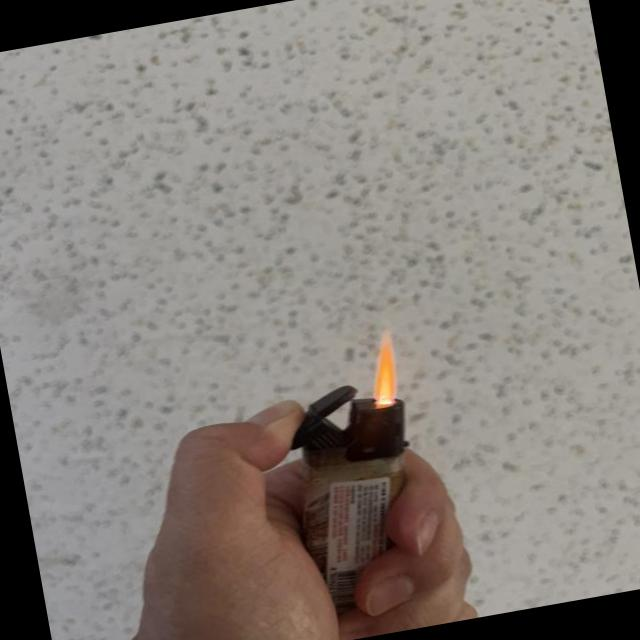Fire: (363, 334, 402, 405)
